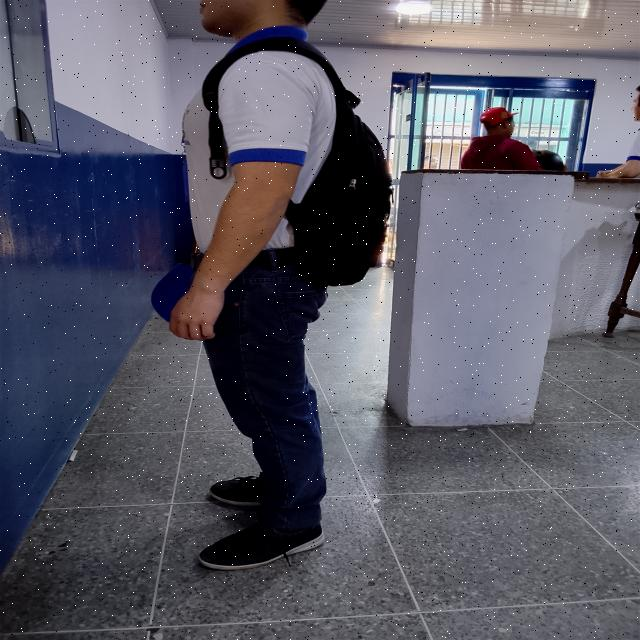pantalon_oscuro: (202, 261, 329, 531)
uniforme_superior: (181, 25, 337, 255)
